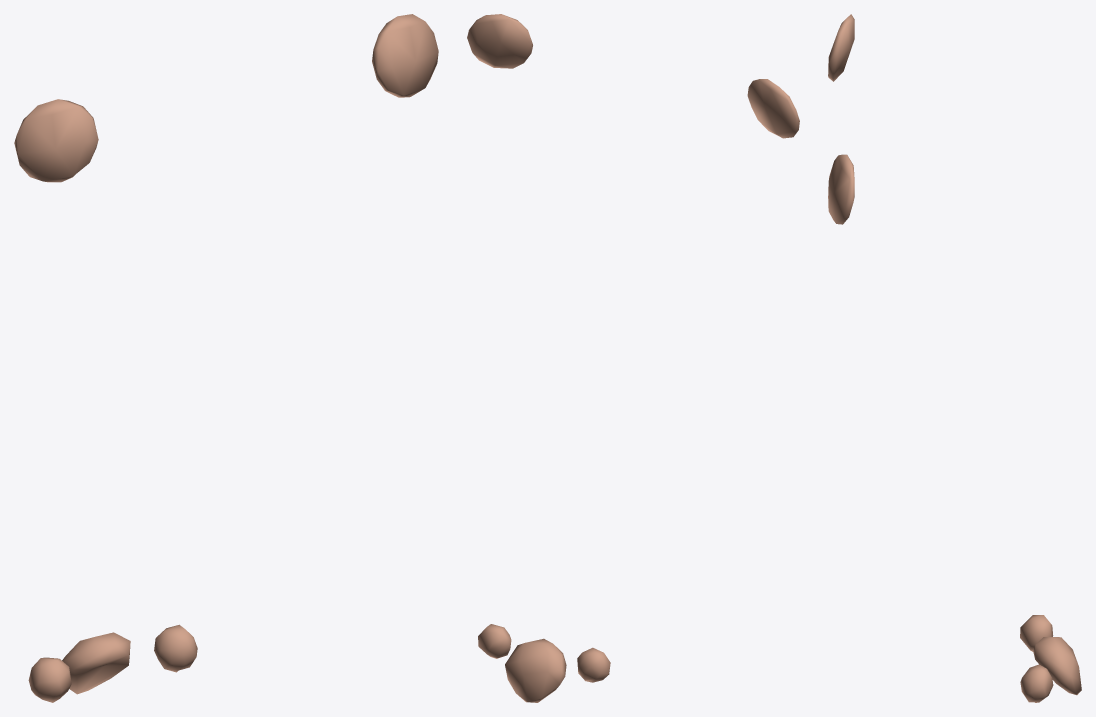
The model's file is pediatric_child_5y_female.reproductive.LOD3.glb.
The picture shows the model from 3 angles, left to right: view 1: azimuth 30°, elevation 25°; view 2: azimuth 150°, elevation 25°; view 3: azimuth 270°, elevation 25°; orthographic projection. The views are drawn at different scales.
Parts seen in each view (by area): view 1: PEDIATRIC.CHILD_5Y.FEMALE.REPRODUCTIVE.BREAST_ADIPOSE_TISSUE (×2), PEDIATRIC.CHILD_5Y.FEMALE.REPRODUCTIVE.UTERUS, PEDIATRIC.CHILD_5Y.FEMALE.REPRODUCTIVE.OVARY.L, PEDIATRIC.CHILD_5Y.FEMALE.REPRODUCTIVE.OVARY.R; view 2: PEDIATRIC.CHILD_5Y.FEMALE.REPRODUCTIVE.BREAST_ADIPOSE_TISSUE (×2), PEDIATRIC.CHILD_5Y.FEMALE.REPRODUCTIVE.UTERUS, PEDIATRIC.CHILD_5Y.FEMALE.REPRODUCTIVE.OVARY.R, PEDIATRIC.CHILD_5Y.FEMALE.REPRODUCTIVE.OVARY.L; view 3: PEDIATRIC.CHILD_5Y.FEMALE.REPRODUCTIVE.BREAST_ADIPOSE_TISSUE (×2), PEDIATRIC.CHILD_5Y.FEMALE.REPRODUCTIVE.UTERUS, PEDIATRIC.CHILD_5Y.FEMALE.REPRODUCTIVE.OVARY.L, PEDIATRIC.CHILD_5Y.FEMALE.REPRODUCTIVE.OVARY.R.
Boxes of the visible parts, left/top/right/bottom form: PEDIATRIC.CHILD_5Y.FEMALE.REPRODUCTIVE.BREAST_ADIPOSE_TISSUE (×2): left=14, top=14, right=438, bottom=182; PEDIATRIC.CHILD_5Y.FEMALE.REPRODUCTIVE.UTERUS: left=62, top=632, right=130, bottom=694; PEDIATRIC.CHILD_5Y.FEMALE.REPRODUCTIVE.OVARY.L: left=154, top=624, right=197, bottom=672; PEDIATRIC.CHILD_5Y.FEMALE.REPRODUCTIVE.OVARY.R: left=28, top=657, right=71, bottom=702; PEDIATRIC.CHILD_5Y.FEMALE.REPRODUCTIVE.BREAST_ADIPOSE_TISSUE (×2): left=467, top=14, right=799, bottom=138; PEDIATRIC.CHILD_5Y.FEMALE.REPRODUCTIVE.UTERUS: left=505, top=638, right=566, bottom=702; PEDIATRIC.CHILD_5Y.FEMALE.REPRODUCTIVE.OVARY.R: left=577, top=647, right=610, bottom=682; PEDIATRIC.CHILD_5Y.FEMALE.REPRODUCTIVE.OVARY.L: left=478, top=624, right=511, bottom=658; PEDIATRIC.CHILD_5Y.FEMALE.REPRODUCTIVE.BREAST_ADIPOSE_TISSUE (×2): left=828, top=14, right=854, bottom=224; PEDIATRIC.CHILD_5Y.FEMALE.REPRODUCTIVE.UTERUS: left=1033, top=637, right=1081, bottom=695; PEDIATRIC.CHILD_5Y.FEMALE.REPRODUCTIVE.OVARY.L: left=1020, top=664, right=1053, bottom=702; PEDIATRIC.CHILD_5Y.FEMALE.REPRODUCTIVE.OVARY.R: left=1020, top=615, right=1053, bottom=651.
Size of the model in its own units: 0.1443 by 0.2408 by 0.0909.
